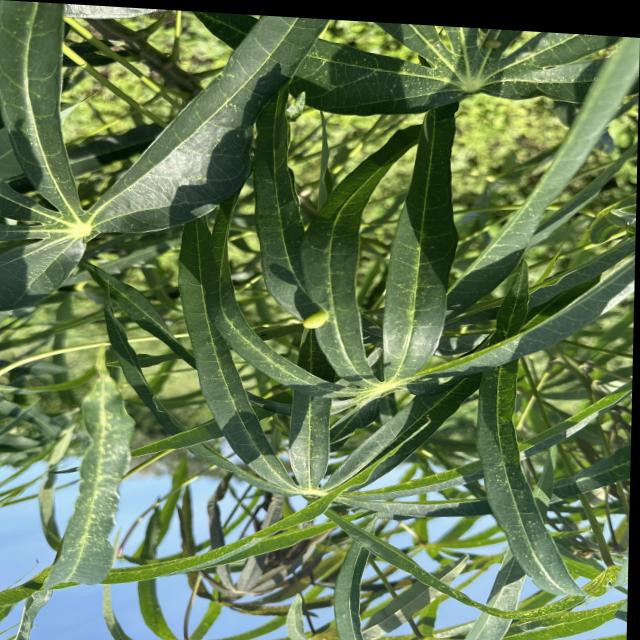Mosca: (294, 299, 342, 338), (481, 37, 508, 54)
